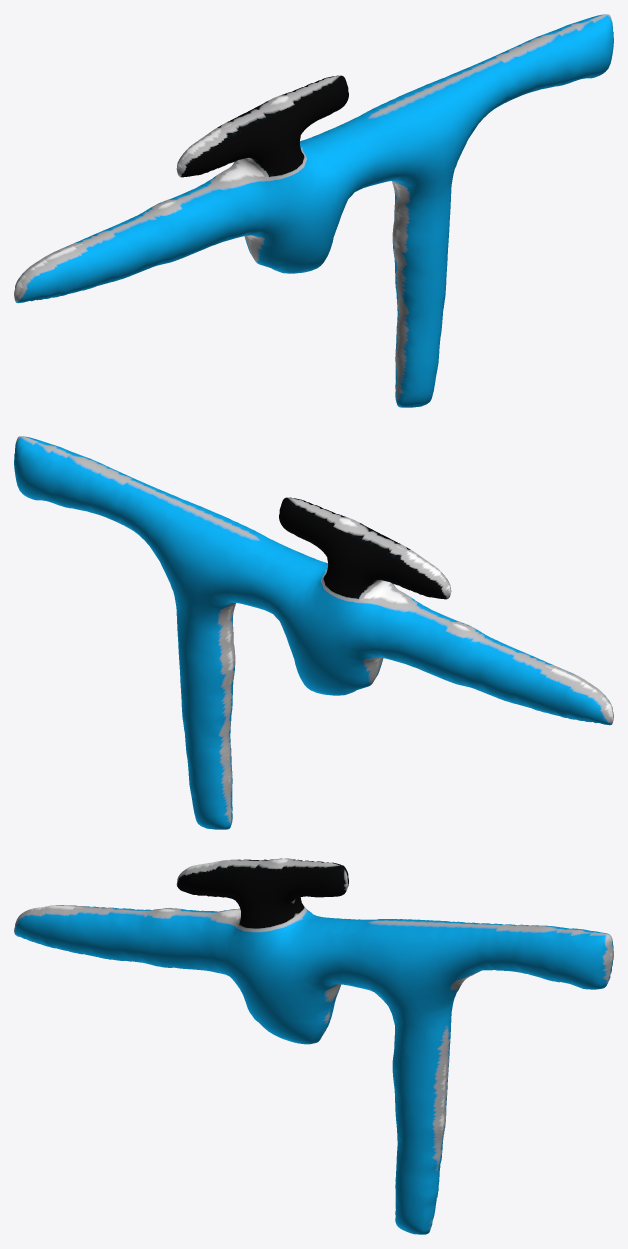
File: asset.glb
3 renders of one model, top to bottom at view 1: azimuth 30°, elevation 25°; view 2: azimuth 150°, elevation 25°; view 3: azimuth 330°, elevation 25°, orthographic.
Size of the model in its own units: 6.78 by 3.79 by 0.9692.
Materials: 1 (1 with a texture image).
